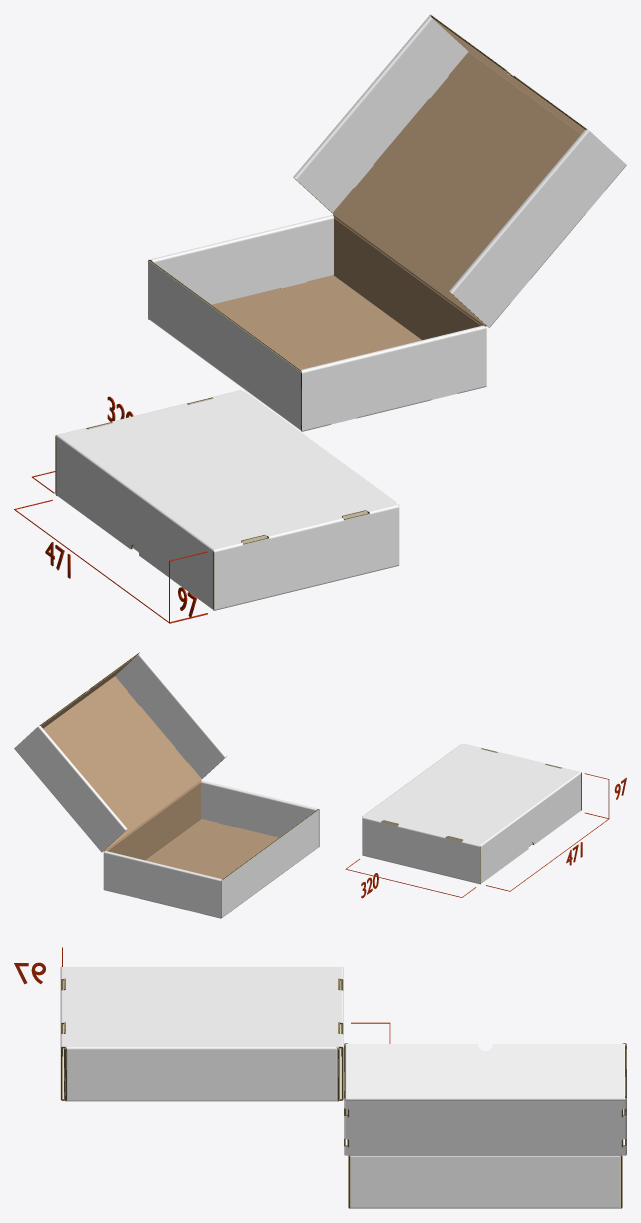
3 renders of one model, top to bottom at view 1: azimuth 30°, elevation 25°; view 2: azimuth 150°, elevation 25°; view 3: azimuth 270°, elevation 25°, orthographic. The views are drawn at different scales.
Parts seen in each view (by area): view 1: _1G0004_ARD-node, _1G0004_ARD-node.001; view 2: _1G0004_ARD-node, _1G0004_ARD-node.001; view 3: _1G0004_ARD-node, _1G0004_ARD-node.001.
Part boxes in pixels (bbox=[...]): _1G0004_ARD-node: bbox=[148, 14, 626, 431]; _1G0004_ARD-node.001: bbox=[55, 390, 399, 610]; _1G0004_ARD-node: bbox=[14, 652, 319, 918]; _1G0004_ARD-node.001: bbox=[362, 743, 581, 884]; _1G0004_ARD-node: bbox=[344, 1043, 626, 1208]; _1G0004_ARD-node.001: bbox=[60, 966, 343, 1101].
Size of what is drawn, in the model's own units: 1.11 by 0.3902 by 1.03.
7 materials, 2 textured.
